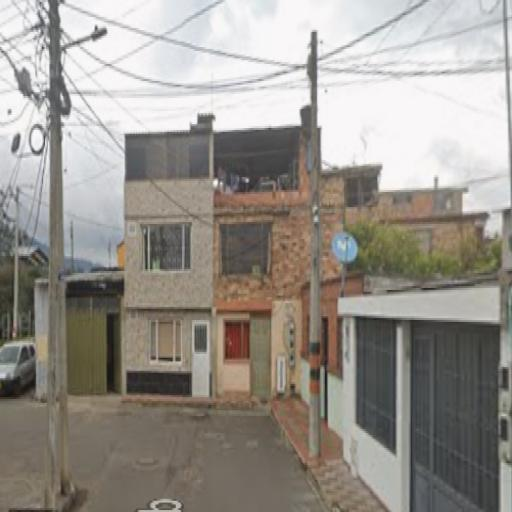poste: (44, 1, 74, 504), (304, 27, 325, 460), (7, 183, 22, 339)
